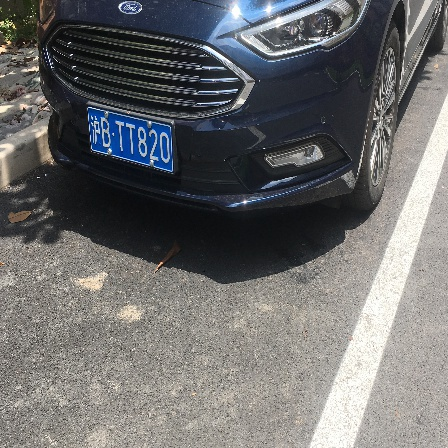plate: (85, 105, 180, 175)
